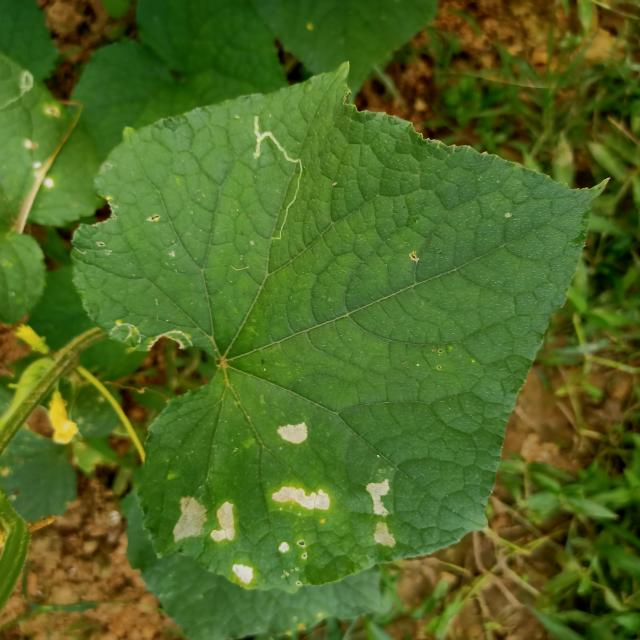disease_cucumber: (167, 479, 337, 586), (367, 474, 396, 552), (273, 418, 314, 449)
